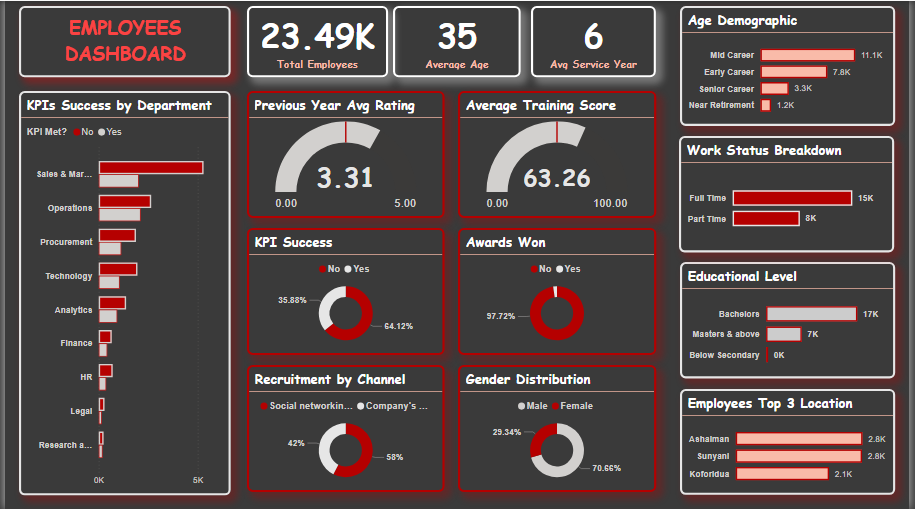

What the dashboard file says about the page in this screenshot:
{"tool":"powerbi","page":{"name":"Page 1","canvas":[1280,720],"ordinal":0},"visuals":[{"type":"card","fields":{"Values":["Avg(Dataset.Age)"]},"box":[549.9,7.1,181.4,100.6],"z":0},{"type":"donutChart","title":"Gender Distribution","fields":{"Category":["Dataset.Gender"],"Y":["CountNonNull(Dataset.Gender)"]},"box":[642,515.9,280.6,180],"z":1000},{"type":"gauge","title":"Average Training Score","fields":{"Y":["Avg(Dataset.Avg_Training_Score)"]},"box":[642,127.6,280.6,180],"z":2000},{"type":"gauge","title":"Previous Year Avg Rating","fields":{"Y":["Avg(Dataset.Previous_Year_Rating)"]},"box":[343,127.6,280,180],"z":3000},{"type":"card","fields":{"Values":["Count(Dataset.EmpID)"]},"box":[343,7.1,199.8,100.6],"z":4000},{"type":"donutChart","title":"Recruitment by Channel","fields":{"Category":["Dataset.Recruitment_Channel"],"Y":["CountNonNull(Dataset.Recruitment_Channel)"]},"box":[343,515.9,280,180],"z":5000},{"type":"barChart","title":"Age Demographic","fields":{"Category":["Dataset.Age_Group"],"Y":["CountNonNull(Dataset.Age_Group)"]},"box":[956,6.7,305,170],"z":6000},{"type":"card","fields":{"Values":["Avg(Dataset.Length_of_Service)"]},"box":[745.5,7.1,177.2,100.6],"z":7000},{"type":"clusteredBarChart","title":"KPIs Success by Department","fields":{"Category":["Dataset.Department"],"Y":["CountNonNull(Dataset.KPIs_met >80%)"],"Series":["Dataset.KPIs_met >80%"]},"box":[19.8,127.6,300.5,572.6],"z":8000},{"type":"barChart","title":"Educational Level","fields":{"Category":["Dataset.Education"],"Y":["CountNonNull(Dataset.Education)"]},"box":[956.1,370.5,304.7,165],"z":9000},{"type":"donutChart","title":"KPI Success","fields":{"Category":["Dataset.KPIs_met >80%"],"Y":["CountNonNull(Dataset.KPIs_met >80%)"]},"box":[343,321.7,280,180],"z":10000},{"type":"barChart","title":"Work Status Breakdown","fields":{"Category":["Dataset.Full/Part_Time"],"Y":["CountNonNull(Dataset.Full/Part_Time)"]},"box":[955.8,191.1,305,165],"z":11000},{"type":"donutChart","title":"Awards Won","fields":{"Category":["Dataset.Awards_Won"],"Y":["CountNonNull(Dataset.Awards_Won)"]},"box":[642,321.7,280.6,180],"z":12000},{"type":"barChart","title":"Employees Top 3 Location","fields":{"Category":["Dataset.Location"],"Y":["CountNonNull(Dataset.EmpID)"]},"box":[956.7,549.9,304.7,150.2],"z":13000},{"type":"textbox","box":[19.8,7.1,300.5,100.6],"z":14000}]}

Visuals, with their boxes in screenshot pixels (x1, y1, x2, y2), scaled from the page's 1280x720 canvas onto the 915x509 screenshot:
card - Avg(Dataset.Age): 393/5/523/76
"Gender Distribution" donutChart: 459/365/660/492
"Average Training Score" gauge: 459/90/660/217
"Previous Year Avg Rating" gauge: 245/90/445/217
card - Count(Dataset.EmpID): 245/5/388/76
"Recruitment by Channel" donutChart: 245/365/445/492
"Age Demographic" barChart: 683/5/901/125
card - Avg(Dataset.Length_of_Service): 533/5/660/76
"KPIs Success by Department" clusteredBarChart: 14/90/229/495
"Educational Level" barChart: 683/262/901/379
"KPI Success" donutChart: 245/227/445/355
"Work Status Breakdown" barChart: 683/135/901/252
"Awards Won" donutChart: 459/227/660/355
"Employees Top 3 Location" barChart: 684/389/902/495
textbox: 14/5/229/76
